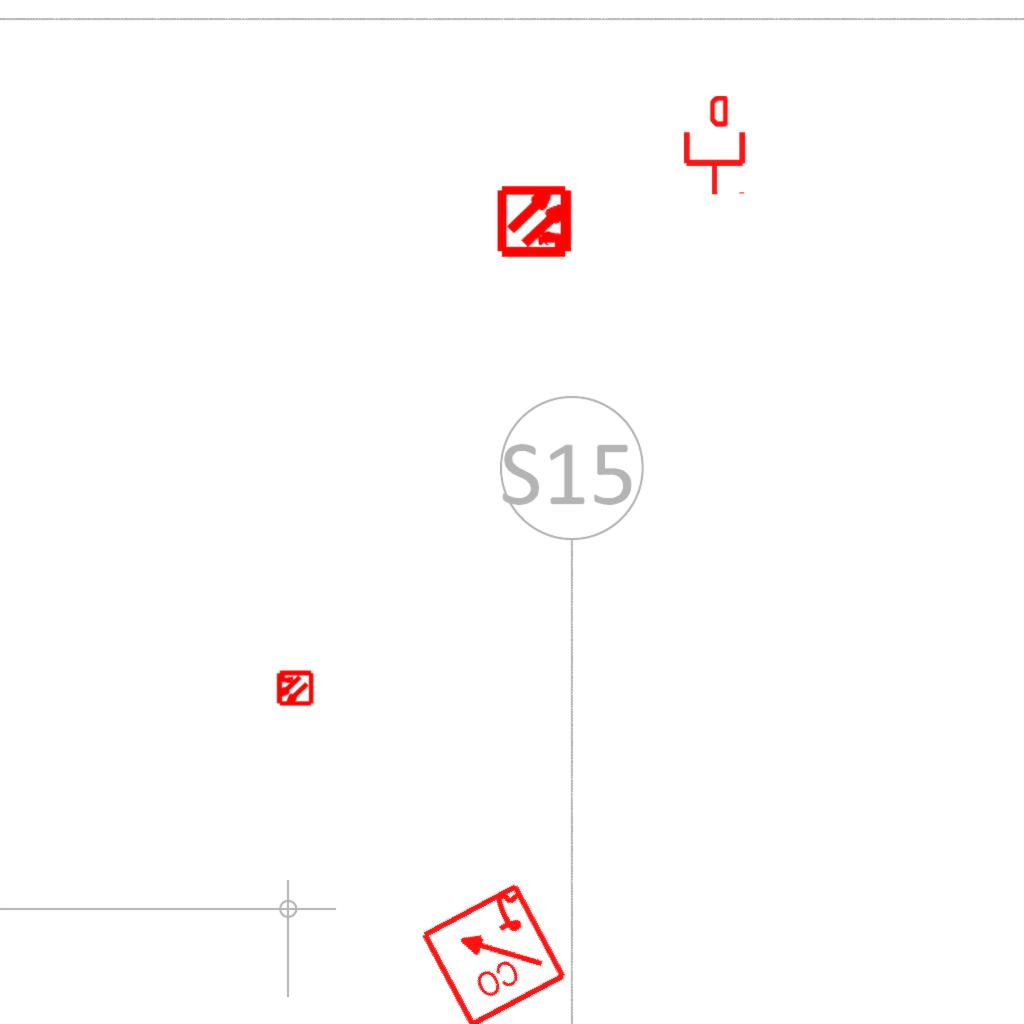Datenanschluss_einfach: (680, 96, 749, 196)
OT_Multisensormelder_(Kombination_RMO_WMD): (480, 165, 593, 278), (266, 660, 322, 716)
ROA_Rauchmelder_optisch_mit_Signalgeber_(Sockelsirene): (416, 878, 569, 1024)
